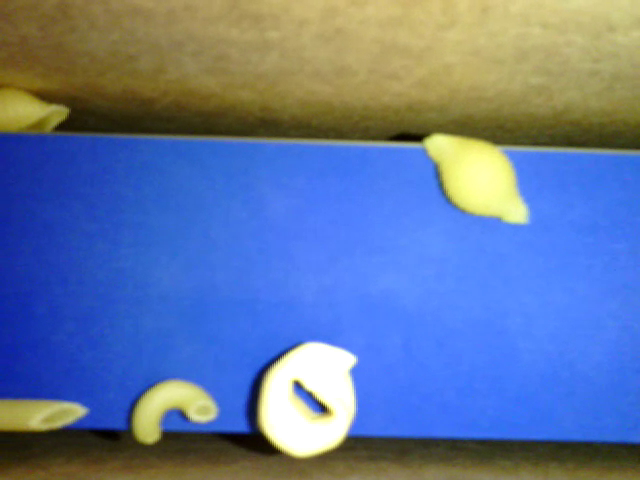elbow: (131, 377, 218, 447)
penne: (1, 395, 90, 431)
shell: (421, 132, 530, 226), (1, 85, 74, 132)
tortellini: (255, 343, 356, 456)
